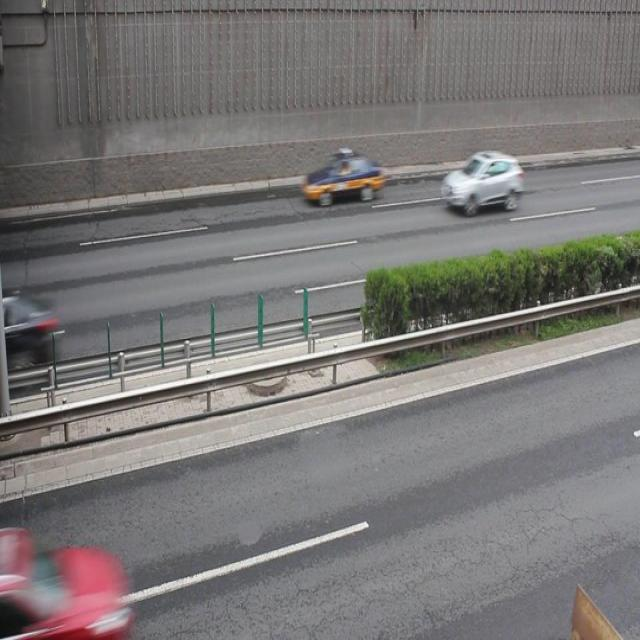car: (13, 538, 128, 640), (441, 151, 522, 210), (302, 153, 382, 205)
